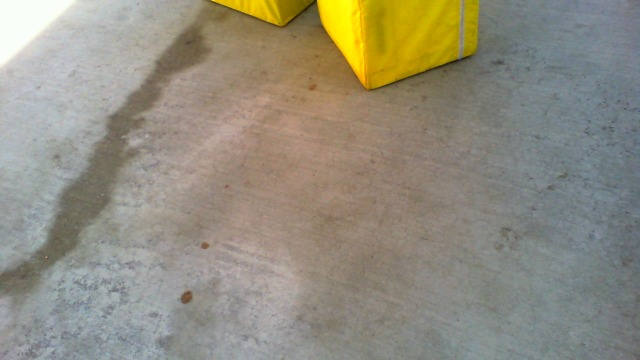cube: (314, 1, 477, 88), (206, 1, 310, 28)
